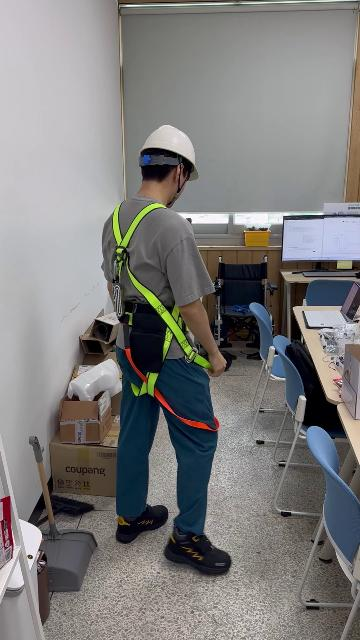helmet_worn: (138, 124, 200, 179)
shoe_worn: (165, 526, 231, 574), (115, 503, 168, 543)
vest_worn: (107, 204, 223, 413)
